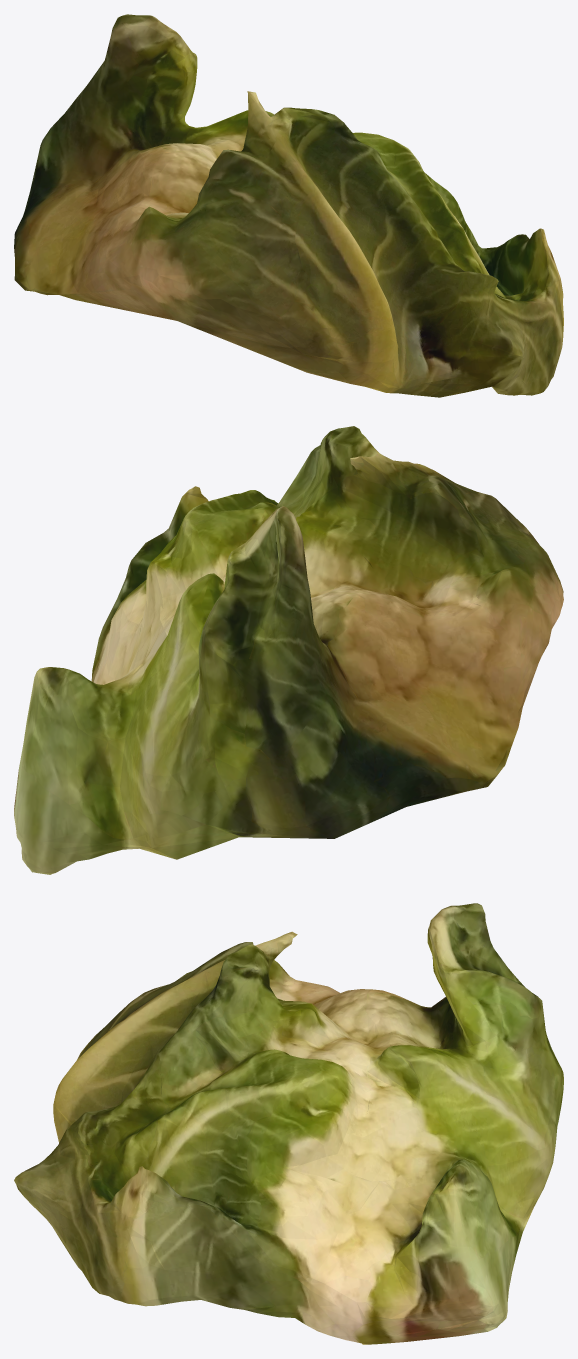
The model's file is realcauliflower.glb.
3 renders of one model, top to bottom at view 1: azimuth 30°, elevation 25°; view 2: azimuth 150°, elevation 25°; view 3: azimuth 270°, elevation 25°, orthographic. The views are drawn at different scales.
Parts seen in each view (by area): view 1: meshes[0]; view 2: meshes[0]; view 3: meshes[0].
Part boxes in pixels (x1,y1,x2,y2): meshes[0]: (14, 14, 563, 397); meshes[0]: (14, 426, 563, 874); meshes[0]: (14, 903, 563, 1344).
Size of the model in its own units: 0.1998 by 0.16 by 0.2406.
1 material, 1 textured.
